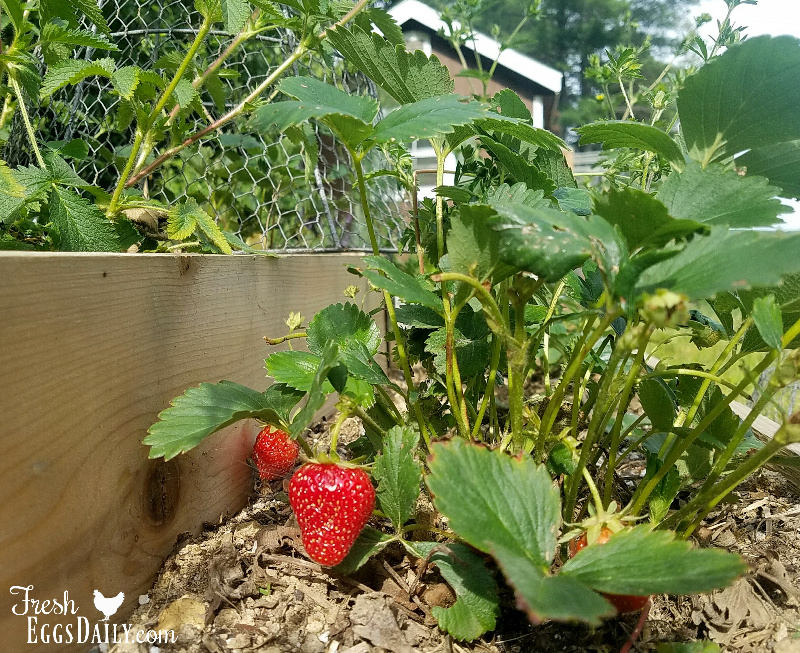ripe_strawberry: (286, 453, 379, 573), (568, 515, 654, 614), (247, 423, 300, 485)
unripe_strawberry: (692, 320, 722, 350)
